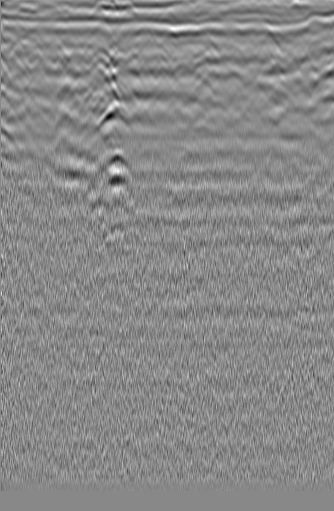가스: (94, 144, 134, 184)
상수: (6, 26, 50, 64)
오수: (280, 31, 317, 58)
우수: (134, 34, 172, 57)
